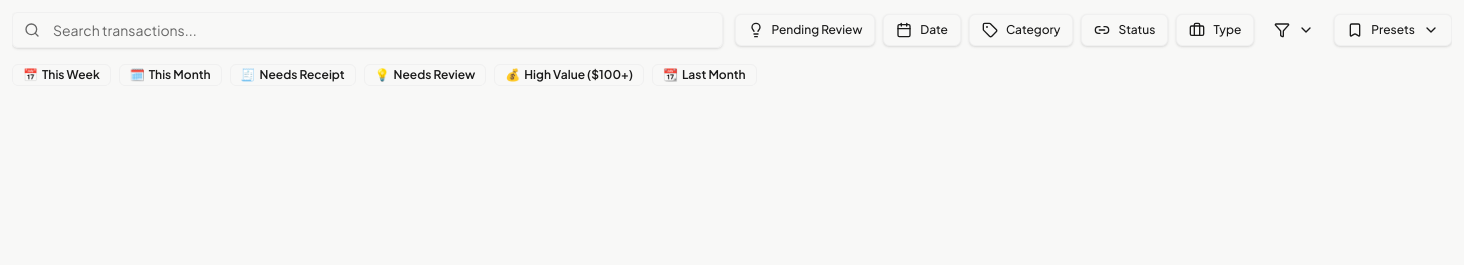
Test case: TransactionFilterPanel › Match Status Filter › should show all 5 match status options including Missing Receipt when clicked
Click the button "Status".
click(1125, 30)  # box [1081,14,1168,46]
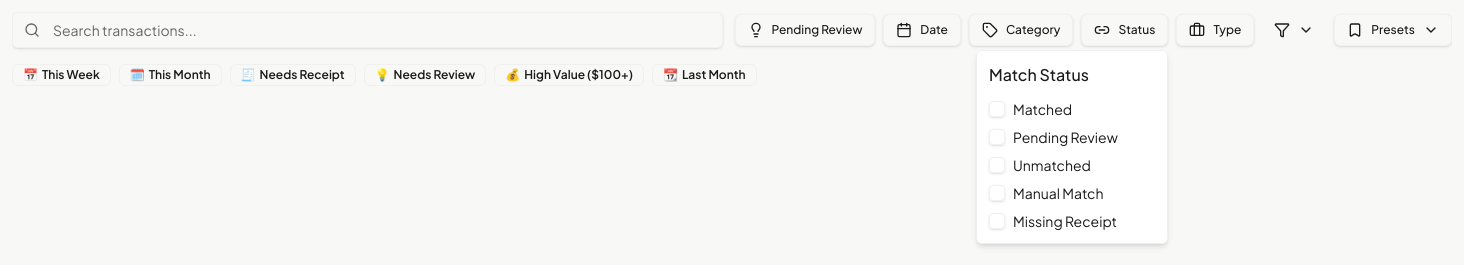
Now the text "Matched" is shown, box [1013,99,1072,119]
Now the text "Unmatched" is shown, box [1013,155,1091,175]
Now the text "Manual Match" is shown, box [1013,183,1104,203]
